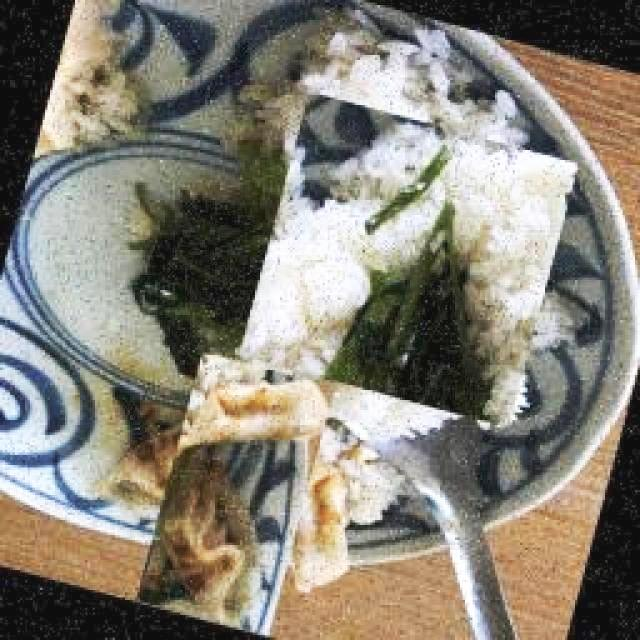fried_dumplings: (164, 460, 252, 619), (184, 383, 327, 446)
rice: (454, 150, 576, 425)
water_spinach: (328, 231, 474, 412), (135, 182, 264, 378)
